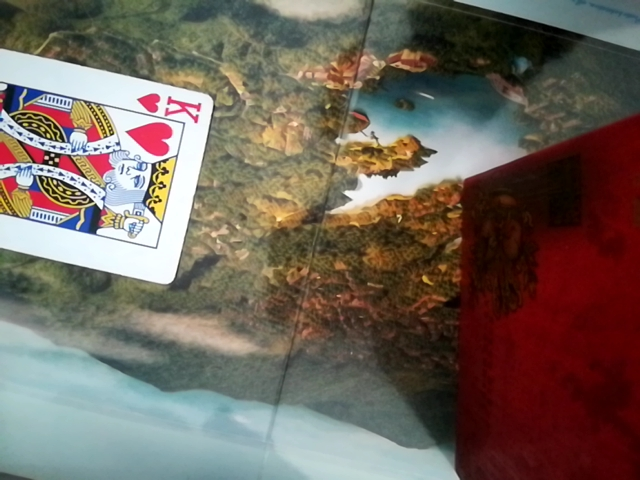hx k: (0, 40, 211, 283)
